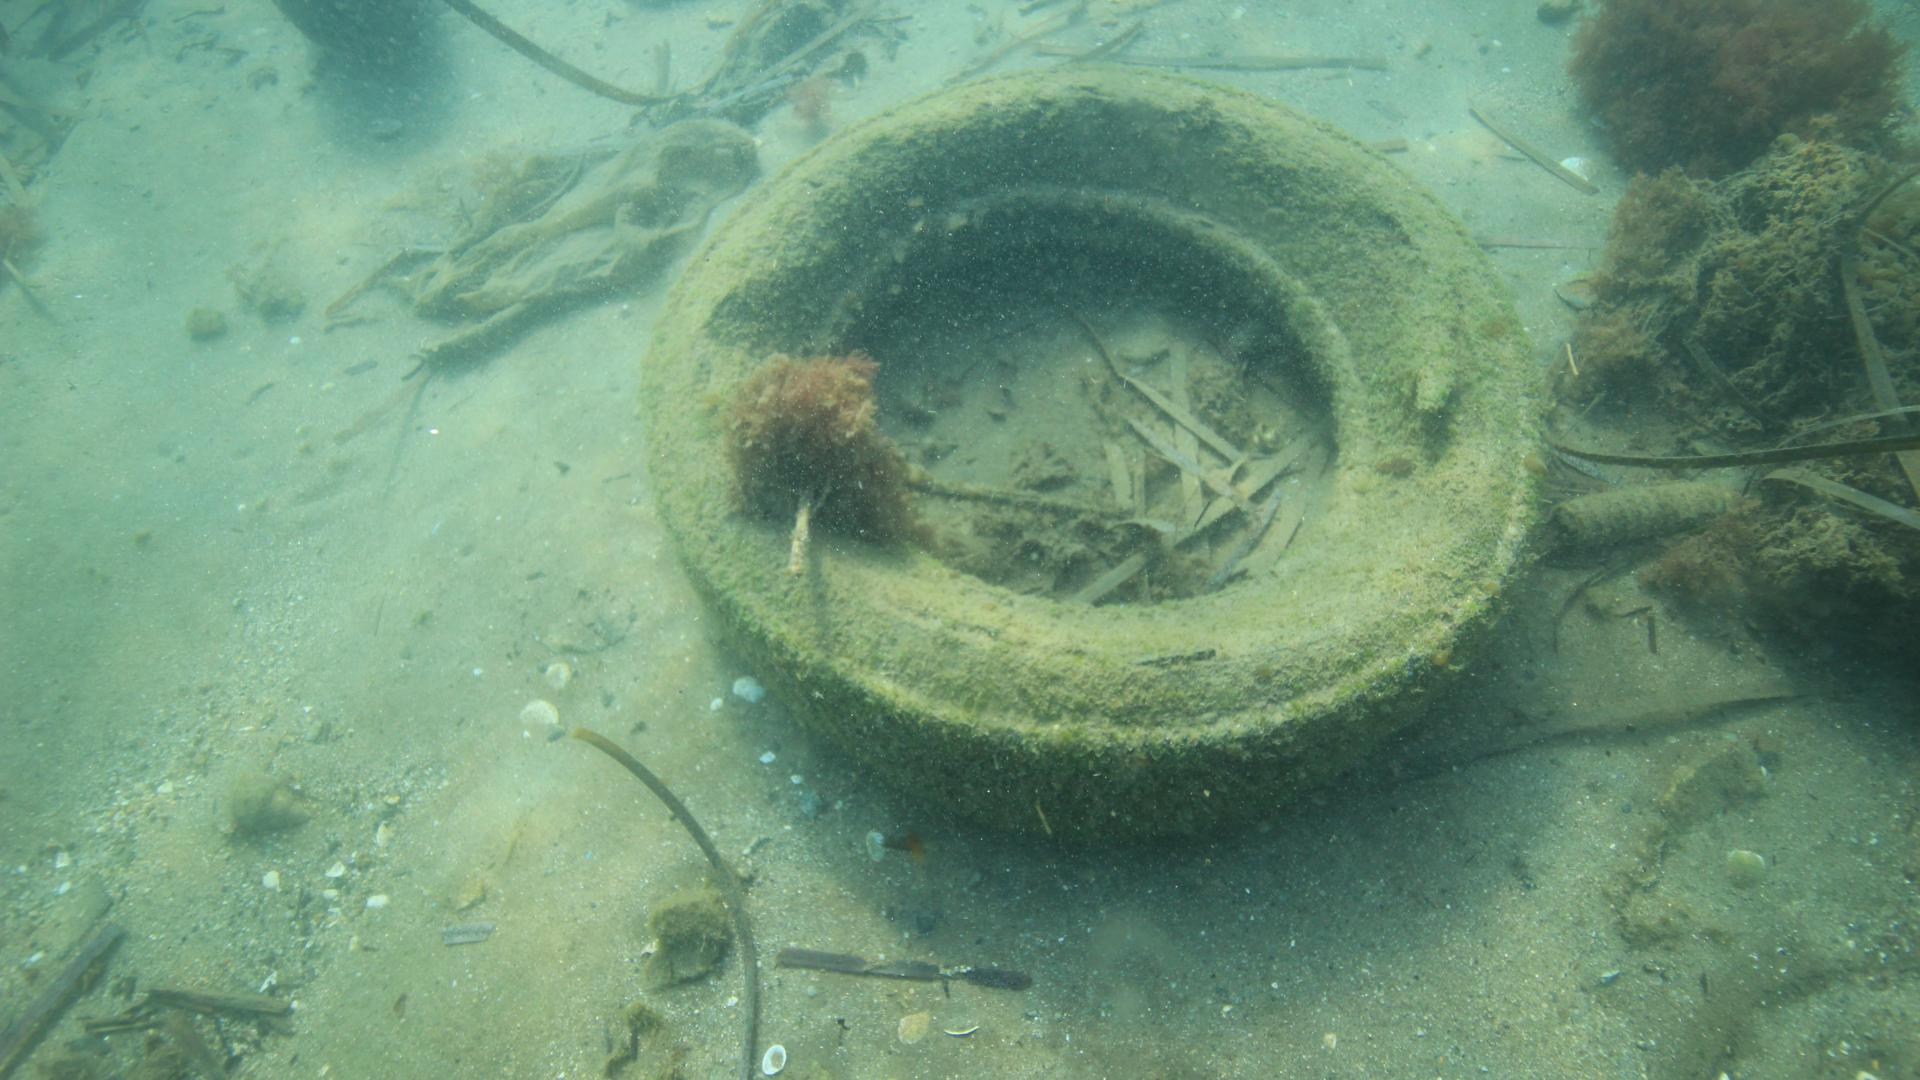tire: (642, 66, 1543, 833)
